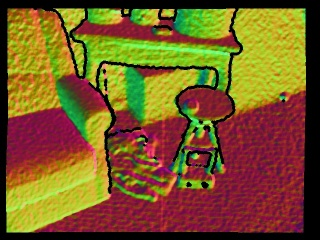station: (176, 146, 216, 190)
